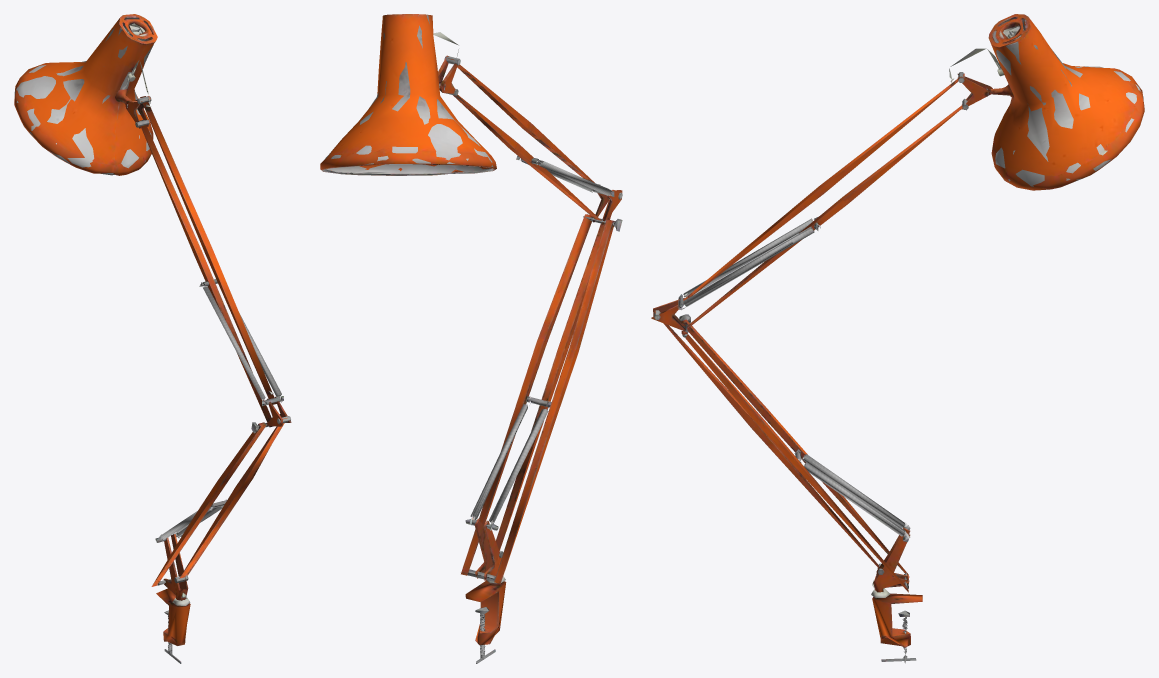
File: lamp-anglepoise.glb
3 renders of one model, left to right at view 1: azimuth 30°, elevation 25°; view 2: azimuth 150°, elevation 25°; view 3: azimuth 270°, elevation 25°, orthographic. The views are drawn at different scales.
Visible parts, largest first — view 1: desk_lamp_arm_01; view 2: desk_lamp_arm_01; view 3: desk_lamp_arm_01.
Part boxes in pixels (x1,y1,x2,y2): desk_lamp_arm_01: [14, 14, 291, 663]; desk_lamp_arm_01: [320, 14, 622, 663]; desk_lamp_arm_01: [651, 14, 1144, 663].
Size of the model in its own units: 0.2017 by 0.8926 by 0.6132.
Materials: 2 (2 with a texture image).
